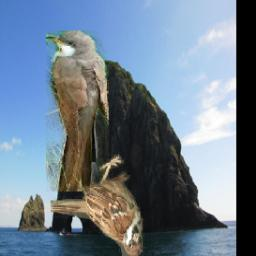Cuckoo: (45, 32, 108, 193)
Sparrow: (51, 155, 144, 256)
